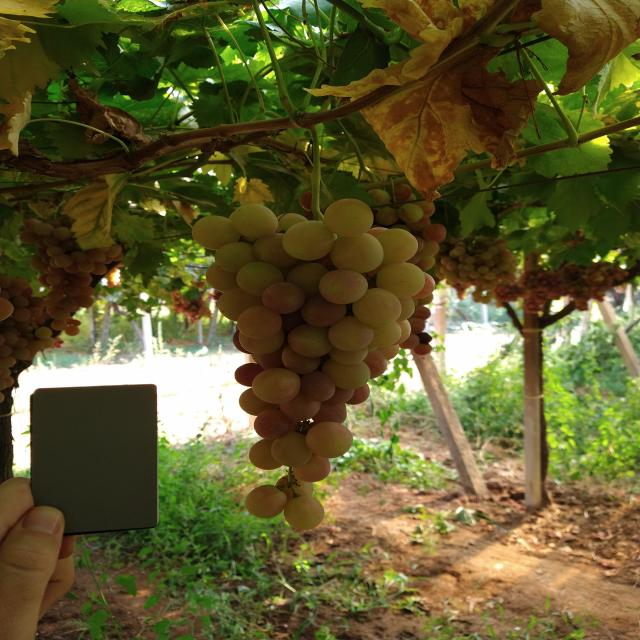grapes: (282, 220, 338, 261), (330, 230, 384, 272), (324, 197, 374, 237), (352, 287, 403, 326), (320, 267, 369, 304), (251, 368, 301, 404), (231, 203, 279, 240), (376, 261, 425, 297), (305, 422, 354, 458), (372, 227, 419, 264), (237, 260, 284, 297), (192, 214, 240, 250), (328, 315, 374, 352), (322, 356, 371, 390), (301, 292, 348, 327), (254, 234, 302, 268), (236, 304, 283, 338), (214, 240, 259, 274), (245, 484, 288, 519), (285, 261, 329, 295), (272, 432, 313, 468), (238, 324, 284, 356), (217, 288, 260, 322), (279, 388, 323, 421), (284, 495, 326, 529), (262, 282, 306, 313), (290, 324, 331, 357), (254, 409, 296, 440), (206, 260, 246, 292), (239, 387, 280, 416), (283, 343, 321, 374), (297, 371, 336, 401), (292, 452, 331, 482), (351, 347, 387, 379), (249, 438, 285, 470), (329, 338, 370, 366), (276, 473, 314, 503), (366, 318, 402, 348), (382, 292, 416, 321), (311, 399, 348, 425), (378, 317, 411, 345), (367, 334, 401, 361), (403, 270, 436, 297), (275, 212, 309, 238), (234, 362, 267, 388), (235, 363, 266, 389), (323, 380, 355, 404), (339, 381, 370, 405), (233, 331, 263, 355), (260, 349, 290, 371), (376, 203, 399, 226), (399, 203, 425, 223), (299, 190, 321, 210), (365, 227, 392, 243), (368, 188, 392, 205), (390, 183, 414, 200), (419, 238, 440, 257), (406, 256, 436, 269), (424, 224, 446, 240), (409, 306, 431, 320), (399, 334, 420, 348), (408, 318, 426, 334), (251, 351, 269, 365), (411, 235, 424, 254), (413, 292, 433, 304), (414, 344, 433, 355)
